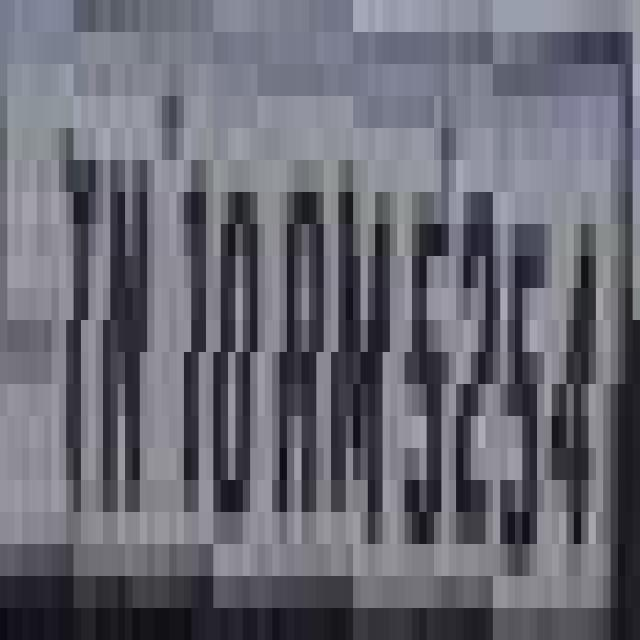license_plate: (0, 32, 603, 640)
